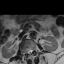CCS_stenosis: (28, 47, 30, 56)
LFS_stenosis: (32, 46, 34, 54)
LLS_normal: (30, 47, 33, 54)
RFS_stenosis: (24, 49, 26, 55)
RLS_normal: (26, 47, 28, 55)
